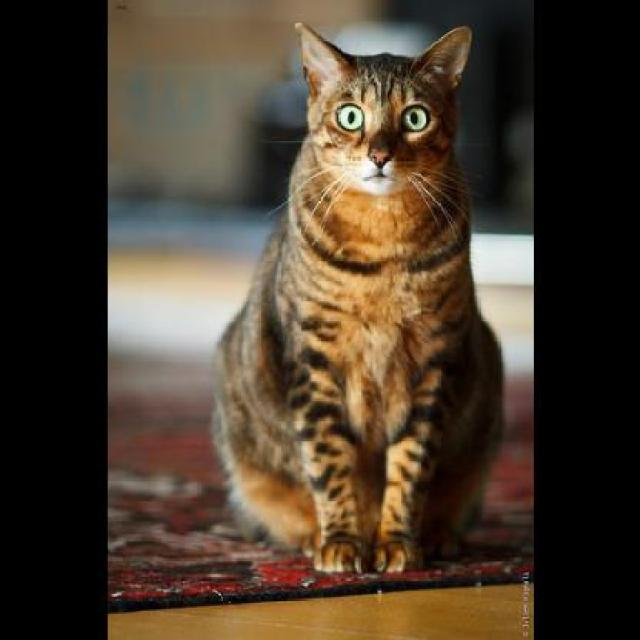unauthorized: (208, 18, 504, 576)
